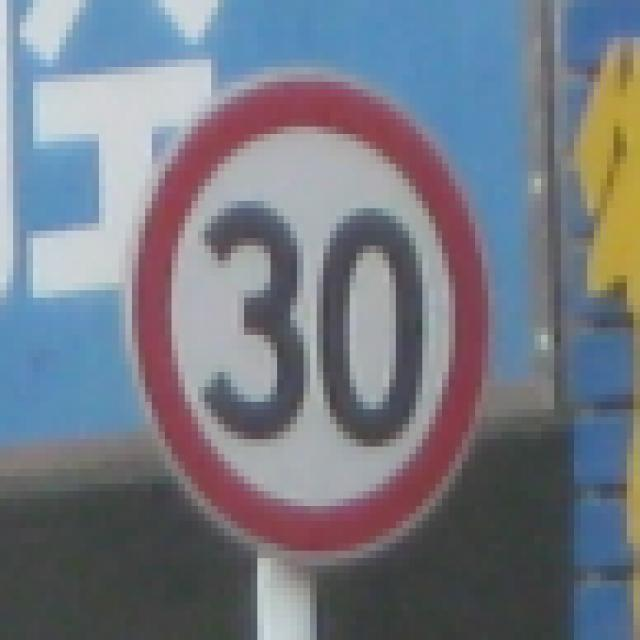Speed: (136, 59, 514, 571)
